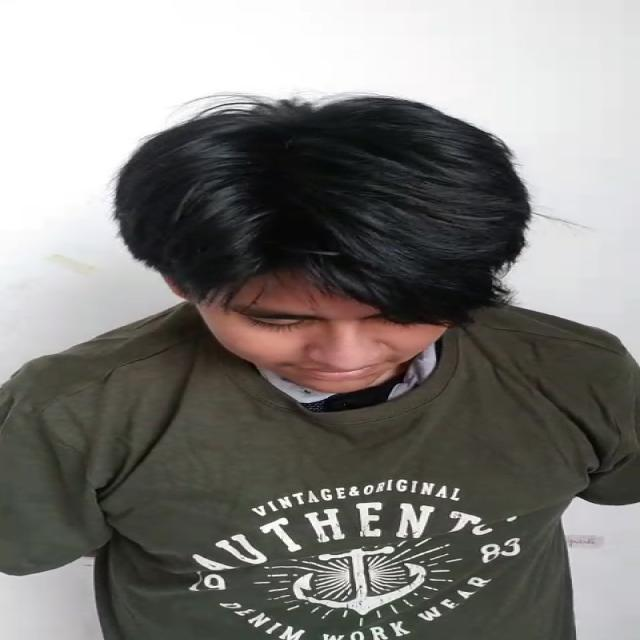9_cabeza_baja: (111, 95, 527, 394)
